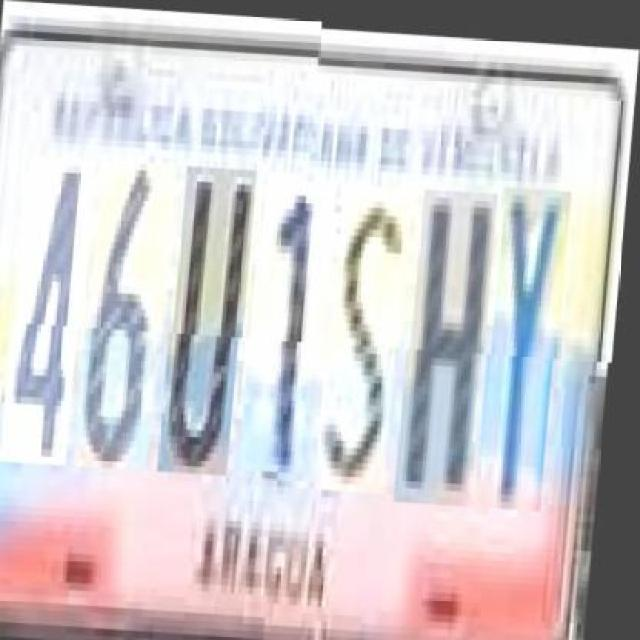1: (250, 175, 341, 476)
4: (12, 162, 98, 470)
6: (84, 167, 178, 476)
h: (406, 183, 502, 500)
s: (326, 178, 416, 488)
u: (168, 170, 260, 479)
y: (486, 180, 574, 503)
